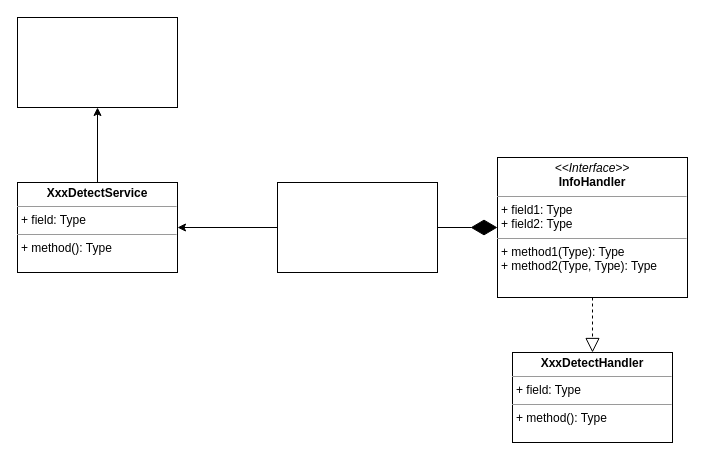
This 705x460 diagram has some shape labels left out. Here are the shapes that lost their labels. From the top down, the centre of each, then its label:
(97,62): XxxApp + field: Type + method(): Type
(357,227): AbstractPipelineRunner + field: Type + method(): Type
